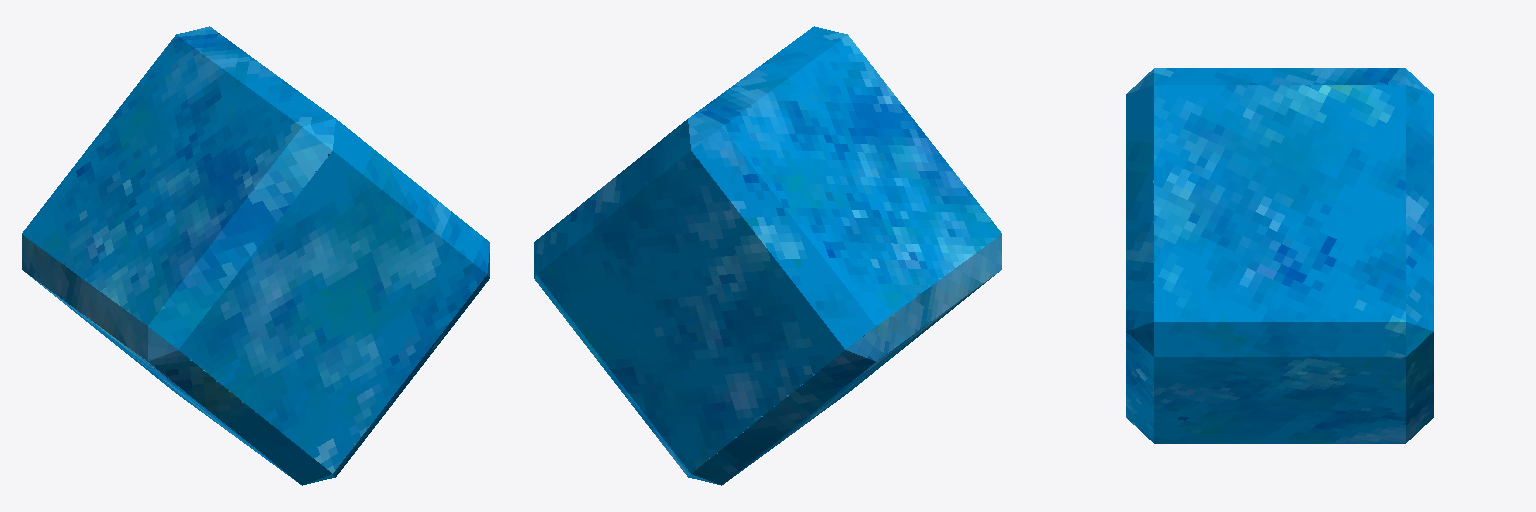
The picture shows the model from 3 angles: view 1: azimuth 30°, elevation 25°; view 2: azimuth 150°, elevation 25°; view 3: azimuth 270°, elevation 25°; orthographic projection.
Parts seen in each view (by area): view 1: Mana; view 2: Mana; view 3: Mana.
Part boxes in pixels (x1,y1,x2,y2): Mana: (22, 26, 489, 485); Mana: (534, 26, 1001, 485); Mana: (1126, 68, 1433, 443).
Bounding box in the file's own units: 1.81 × 1.81 × 1.41.
1 materials, 1 textured.